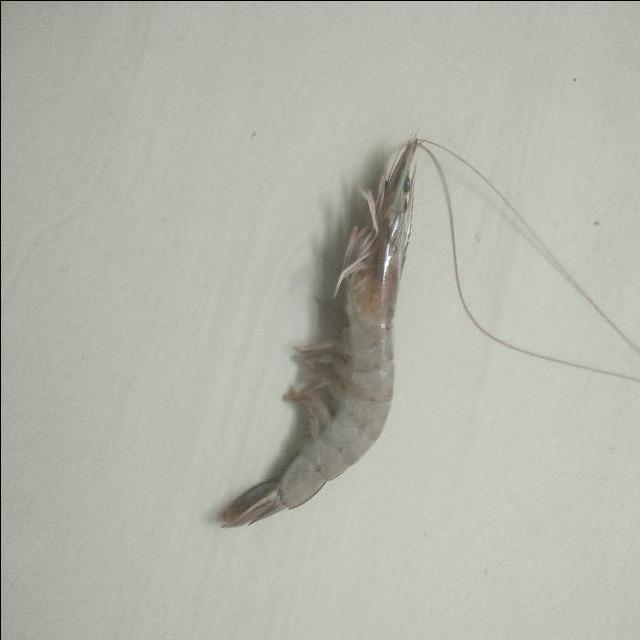shrimp: (220, 138, 417, 528)
